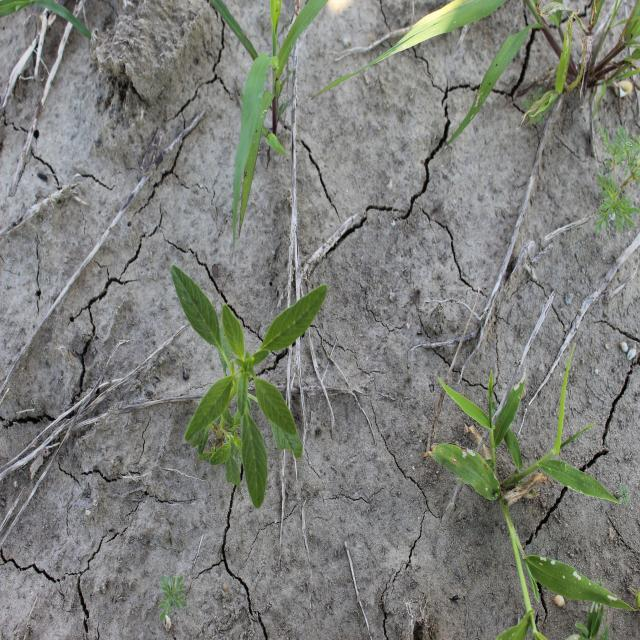Ragweed: (594, 120, 638, 234), (157, 572, 188, 622)
Waterhemp: (170, 265, 329, 510)
